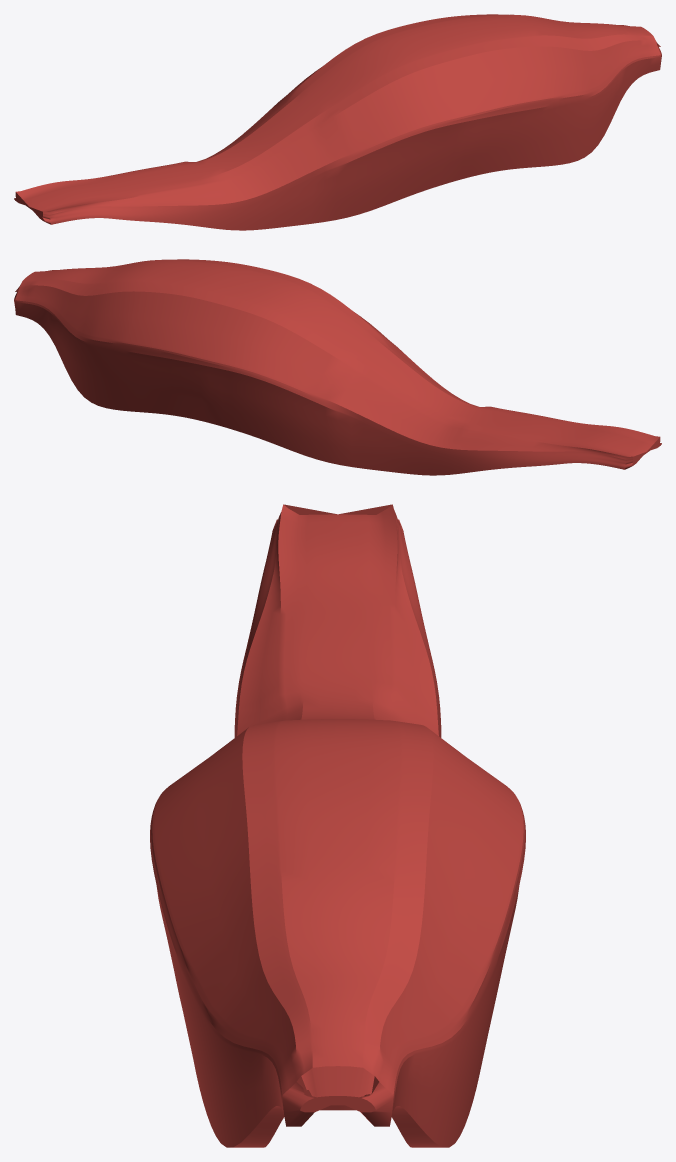
The model's file is adventure_4_lod1.glb.
3 renders of one model, top to bottom at view 1: azimuth 30°, elevation 25°; view 2: azimuth 150°, elevation 25°; view 3: azimuth 270°, elevation 25°, orthographic. The views are drawn at different scales.
Visible parts, largest first — view 1: adventure_4_lod1; view 2: adventure_4_lod1; view 3: adventure_4_lod1.
Part boxes in pixels (bbox=[...]): adventure_4_lod1: bbox=[14, 14, 661, 230]; adventure_4_lod1: bbox=[14, 259, 661, 475]; adventure_4_lod1: bbox=[150, 504, 525, 1147].
Bounding box in the file's own units: 1.7 × 0.3344 × 0.4434.
